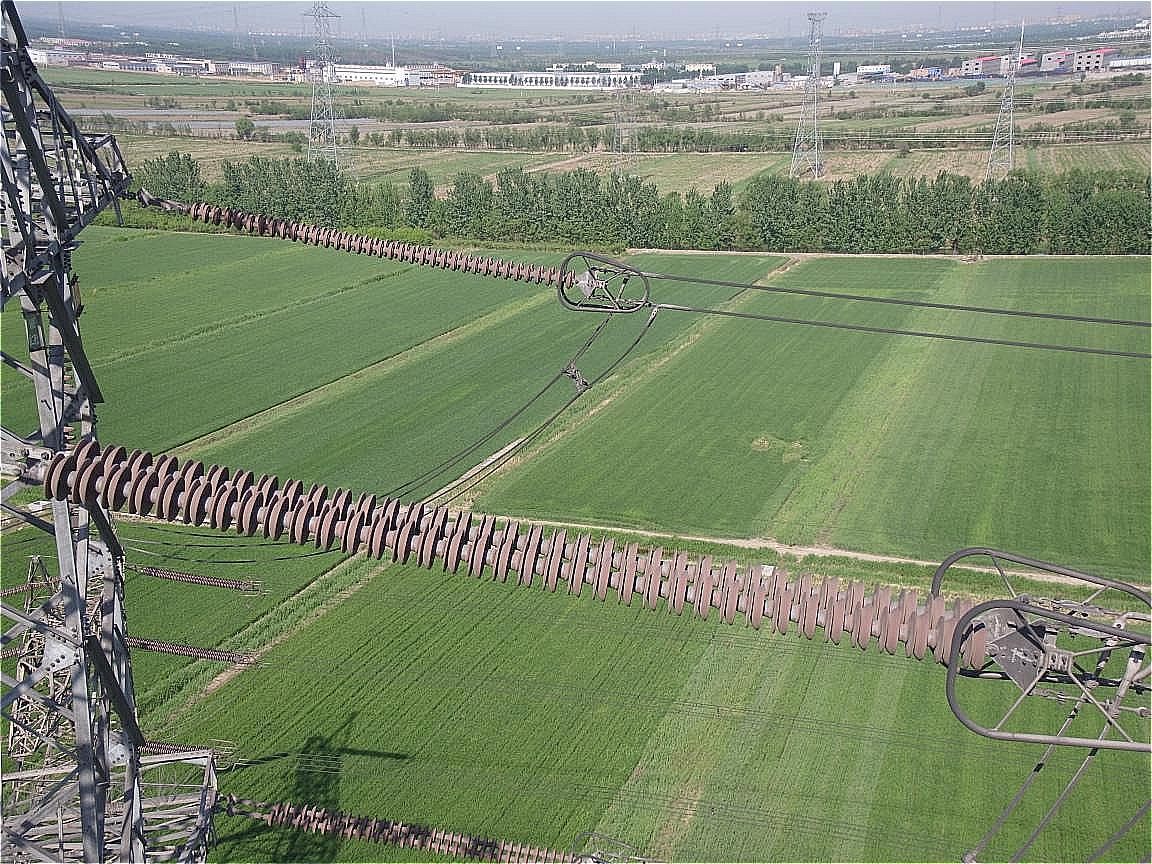insultor1: (187, 198, 579, 288), (265, 799, 581, 864)
insultor2: (42, 436, 990, 671)
